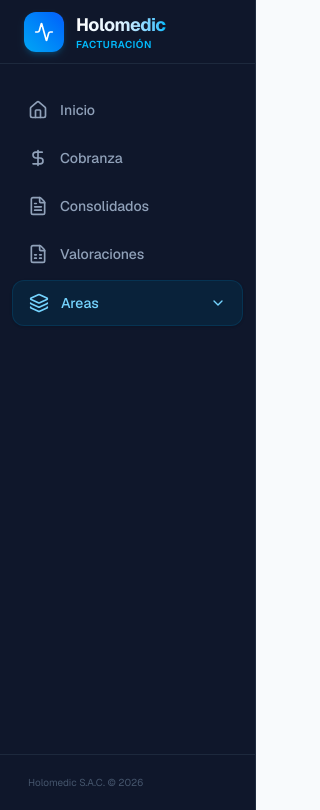
Test: Sidebar Component › AreasMenuItem dropdown › debe marcar como activo el sub-ítem correspondiente a la ruta actual
Click the button "Areas": (128, 303) [12, 280, 243, 326]
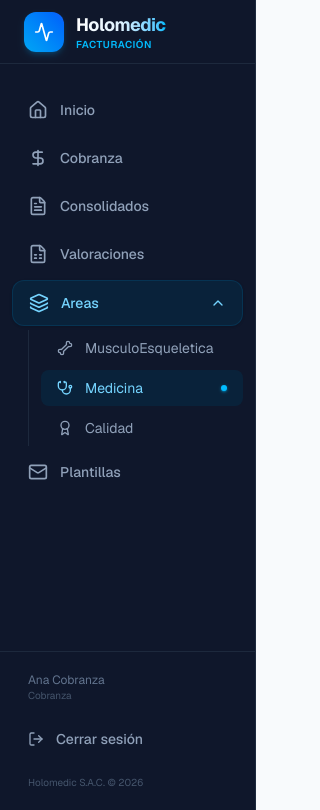
Result: the text "Medicina" is shown at [85, 378, 143, 398]
